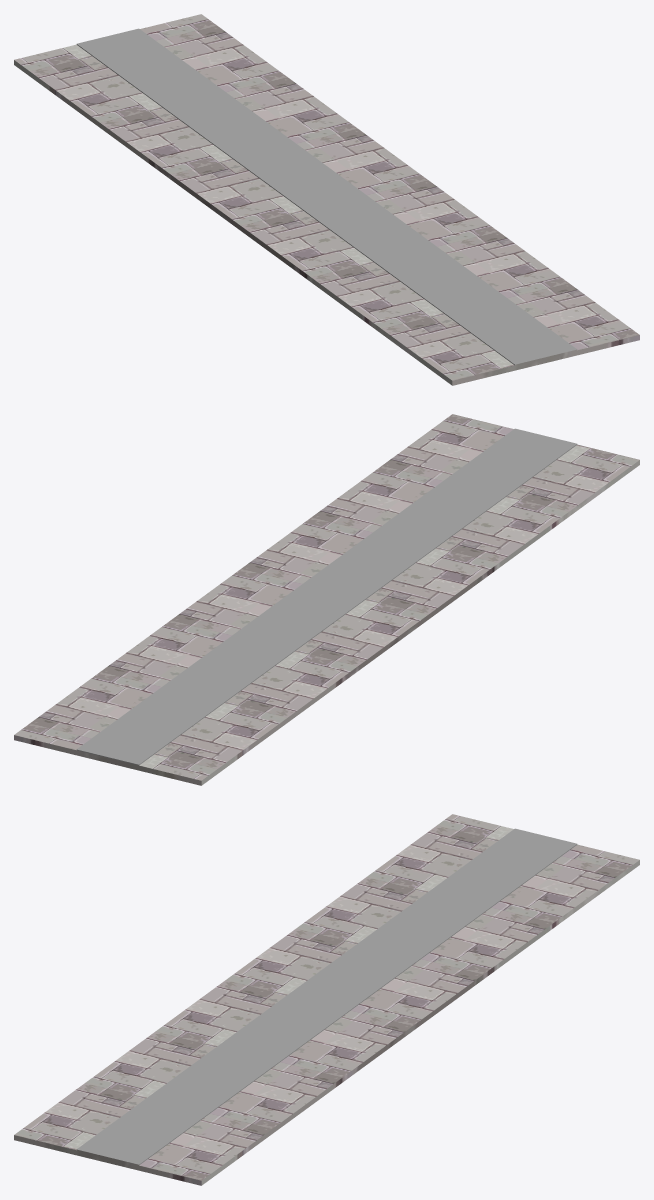
The model's file is MP_Bridge.fbx.
3 views of the same model, one above another, from view 1: azimuth 30°, elevation 25°; view 2: azimuth 150°, elevation 25°; view 3: azimuth 330°, elevation 25° (orthographic).
Visible parts, largest first — view 1: MP_Bridge; view 2: MP_Bridge; view 3: MP_Bridge.
Boxes of the visible parts, <box> form: MP_Bridge: <box>14,14,639,385</box>; MP_Bridge: <box>14,414,639,785</box>; MP_Bridge: <box>14,814,639,1185</box>.
Size of the model in its own units: 668 by 20.24 by 2706.
2 materials, 1 textured.
